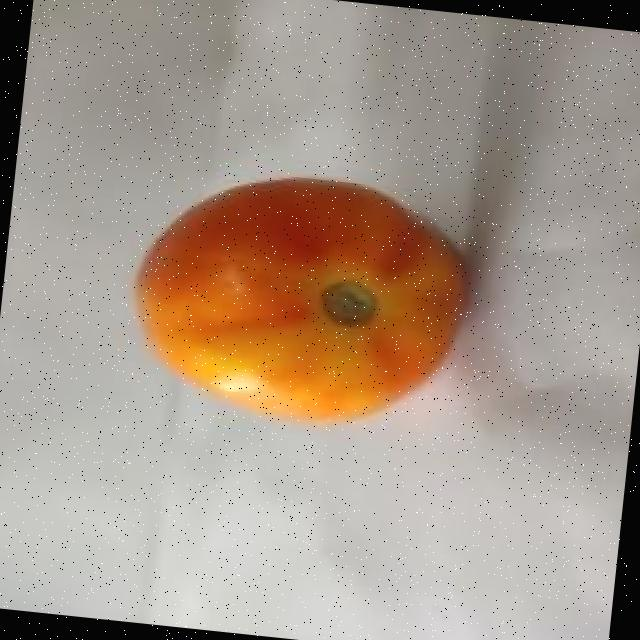Ripe: (108, 154, 482, 441)
